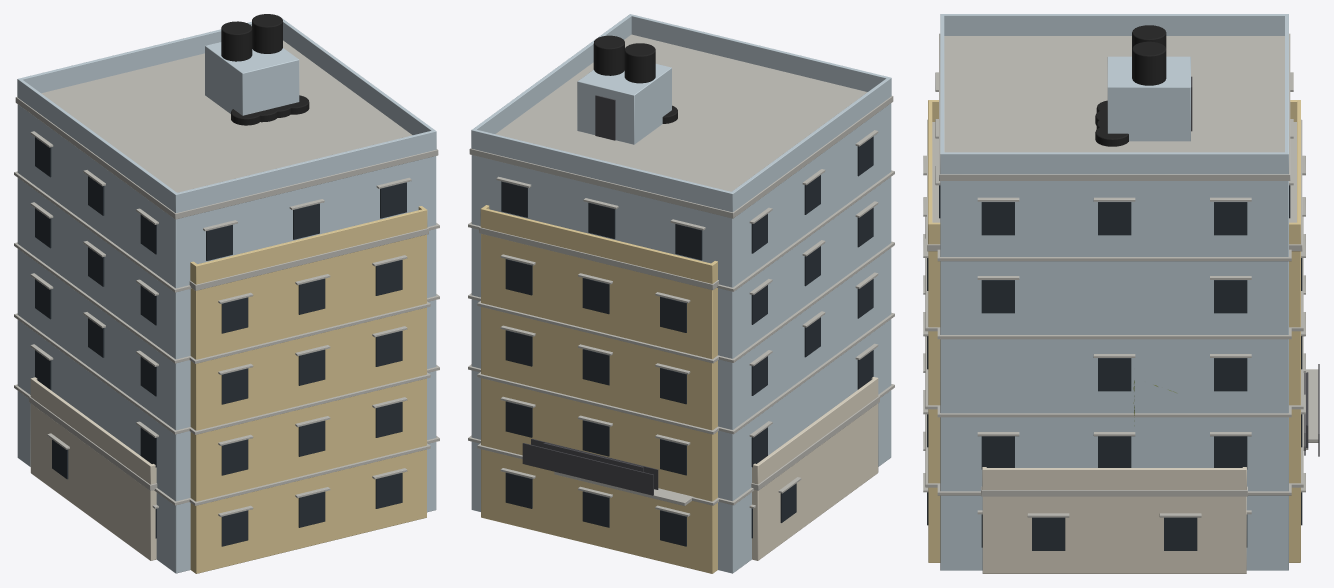
Rendered from env.glb.
3 renders of one model, left to right at view 1: azimuth 30°, elevation 25°; view 2: azimuth 150°, elevation 25°; view 3: azimuth 270°, elevation 25°, orthographic. The views are drawn at different scales.
Parts seen in each view (by area): view 1: Cube.321, Cube.490, Cube.491, Cube.001, Cube.493, Cube.612, Cube.324, Cube.492, Cube.495, Cube.494, Cube.006, Cube.322 (+24 smaller); view 2: Cube.490, Cube.321, Cube.491, Cube.001, Cube.492, Cube.493, Cube.612, Cube.323, Cube.495, Cube.611, Cube.494, Cube.006 (+27 smaller); view 3: Cube.490, Cube.491, Cube.001, Cube.494, Cube.321, Cube.495, Cube.612, Cube.005, Cube.002, Cube.540, Cube.563, Cube.519 (+22 smaller).
Boxes of the visible parts, <box> form: Cube.321: <box>190,234,426,573</box>; Cube.490: <box>17,104,436,573</box>; Cube.491: <box>15,40,438,219</box>; Cube.001: <box>30,404,156,560</box>; Cube.493: <box>174,130,436,212</box>; Cube.612: <box>205,42,299,115</box>; Cube.324: <box>196,209,427,284</box>; Cube.492: <box>18,15,278,93</box>; Cube.495: <box>17,79,177,212</box>; Cube.494: <box>278,15,435,134</box>; Cube.006: <box>30,378,152,484</box>; Cube.322: <box>189,227,428,290</box>; Cube.490: <box>471,103,891,573</box>; Cube.321: <box>481,234,717,573</box>; Cube.491: <box>469,34,893,218</box>; Cube.001: <box>752,403,878,560</box>; Cube.492: <box>471,129,733,212</box>; Cube.493: <box>629,14,890,91</box>; Cube.612: <box>577,64,671,144</box>; Cube.323: <box>480,208,713,283</box>; Cube.495: <box>732,77,891,211</box>; Cube.611: <box>522,443,653,495</box>; Cube.494: <box>472,14,631,133</box>; Cube.006: <box>757,377,878,484</box>; Cube.490: <box>940,181,1288,570</box>; Cube.491: <box>939,33,1290,180</box>; Cube.001: <box>982,496,1246,573</box>; Cube.494: <box>940,152,1288,174</box>; Cube.321: <box>928,251,1300,562</box>; Cube.495: <box>941,14,1286,35</box>; Cube.612: <box>1107,56,1190,141</box>; Cube.005: <box>982,468,1246,489</box>; Cube.002: <box>981,486,1247,496</box>; Cube.540: <box>937,327,1291,339</box>; Cube.563: <box>937,249,1291,261</box>; Cube.519: <box>937,406,1291,417</box>.
Size of the model in its own units: 14.18 by 19.23 by 14.25.
Materials: 15 (3 with a texture image).
